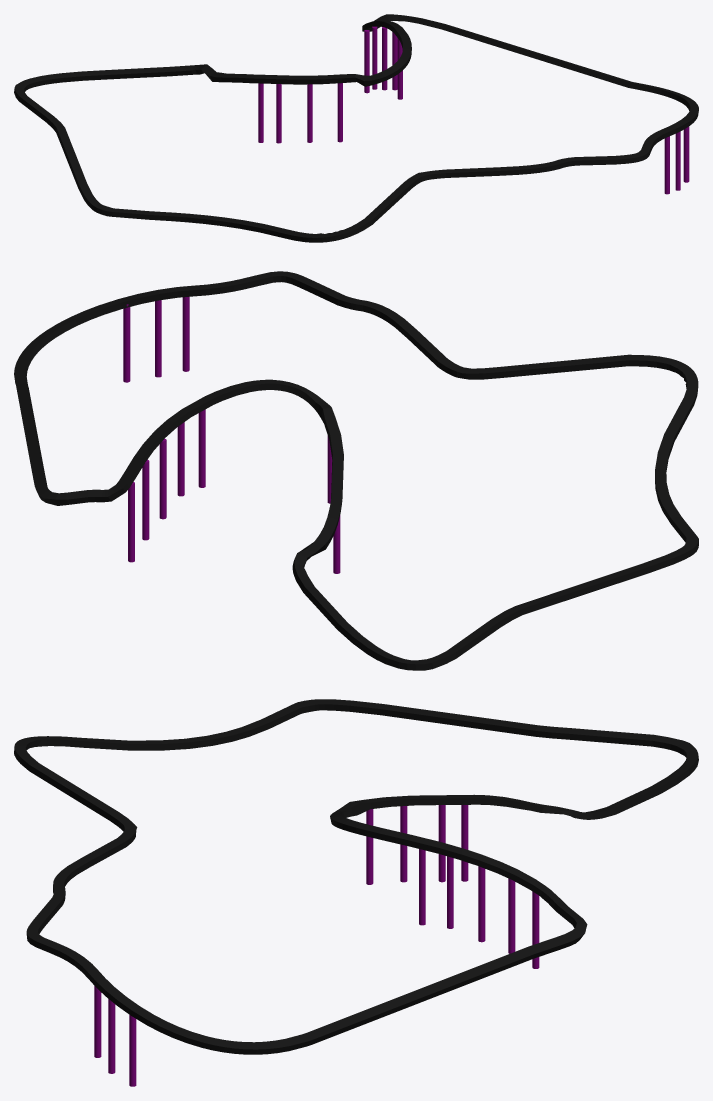
The model's file is Track.obj.
The picture shows the model from 3 angles, top to bottom: view 1: azimuth 30°, elevation 25°; view 2: azimuth 150°, elevation 25°; view 3: azimuth 270°, elevation 25°; orthographic projection. The views are drawn at different scales.
Parts seen in each view (by area): view 1: Road, Bridges; view 2: Road, Bridges; view 3: Road, Bridges.
Boxes of the visible parts, x1,y1,x2,y2 form: Road: (14,14,698,242); Bridges: (258,26,689,194); Road: (14,271,698,670); Bridges: (123,296,340,573); Road: (14,699,698,1054); Bridges: (94,805,539,1086).
Size of the model in its own units: 380 by 72.21 by 317.
